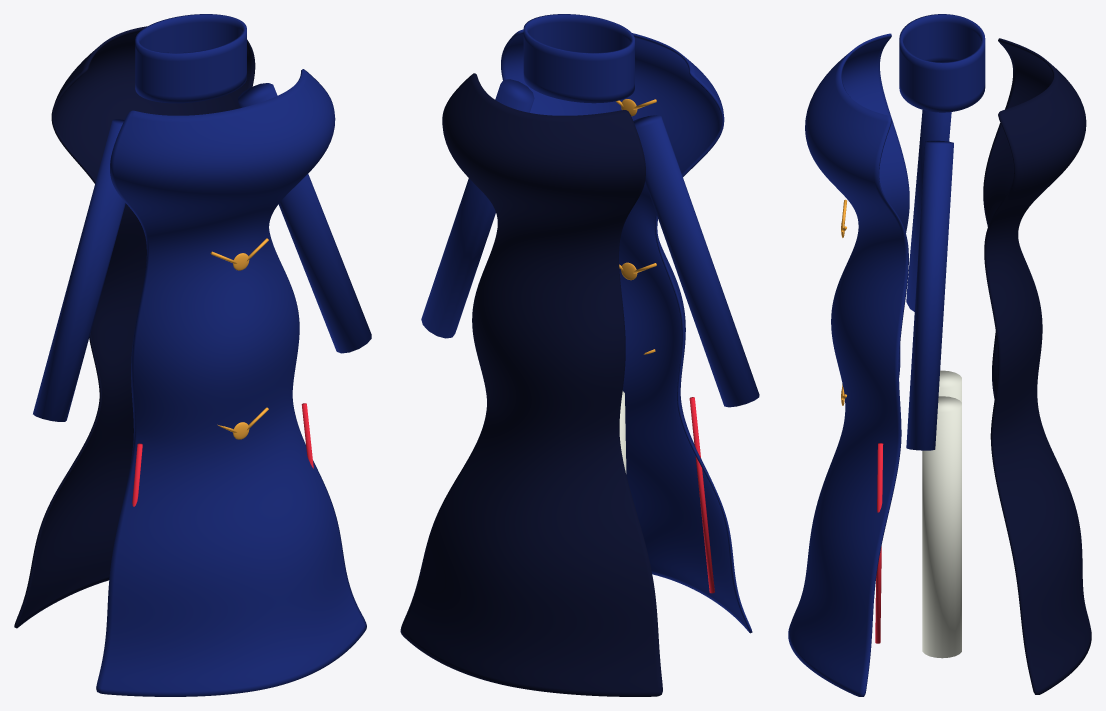
File: BL_AODAI_003.obj
The picture shows the model from 3 angles, left to right: view 1: azimuth 30°, elevation 25°; view 2: azimuth 150°, elevation 25°; view 3: azimuth 270°, elevation 25°; orthographic projection.
Parts seen in each view (by area): view 1: front_ao_dai_panel, back_ao_dai_panel, silk_sleeve, structured_high_collar, silk_sleeve.001; view 2: back_ao_dai_panel, front_ao_dai_panel, silk_sleeve, structured_high_collar, silk_sleeve.001, side_slit_piping; view 3: front_ao_dai_panel, back_ao_dai_panel, ivory_trouser_leg.001, silk_sleeve.001, structured_high_collar, silk_sleeve, side_slit_piping.002, ivory_trouser_leg.
Boxes of the visible parts, <box> form: front_ao_dai_panel: <box>96,69,366,696</box>; back_ao_dai_panel: <box>14,26,255,628</box>; silk_sleeve: <box>33,119,125,421</box>; structured_high_collar: <box>135,14,246,103</box>; silk_sleeve.001: <box>238,83,371,353</box>; back_ao_dai_panel: <box>400,73,662,696</box>; front_ao_dai_panel: <box>501,29,752,633</box>; silk_sleeve: <box>633,115,759,407</box>; structured_high_collar: <box>523,14,634,103</box>; silk_sleeve.001: <box>421,79,534,338</box>; side_slit_piping: <box>689,397,714,593</box>; front_ao_dai_panel: <box>788,33,909,696</box>; back_ao_dai_panel: <box>983,38,1091,694</box>; ivory_trouser_leg.001: <box>922,396,961,658</box>; silk_sleeve.001: <box>906,140,953,450</box>; structured_high_collar: <box>899,14,985,112</box>; silk_sleeve: <box>906,110,951,311</box>; side_slit_piping.002: <box>875,443,883,643</box>; ivory_trouser_leg: <box>938,370,961,402</box>.
Bounding box in the file's own units: 1.44 × 2.45 × 1.13.
